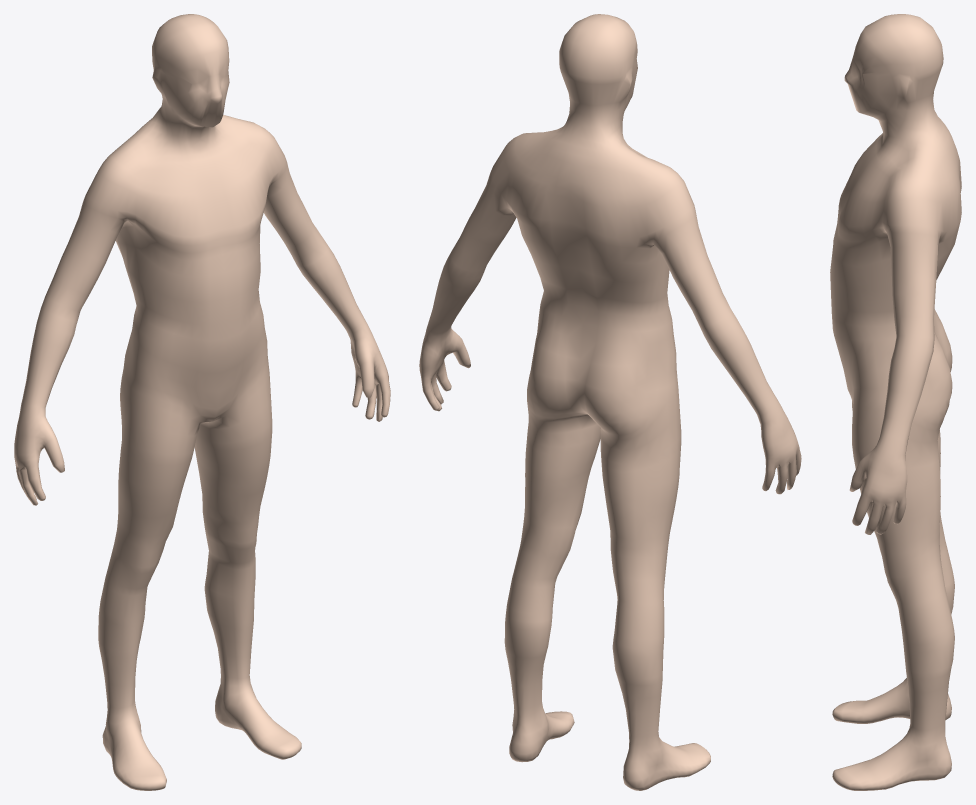
File: human.gltf
3 views of the same model, side by side, from view 1: azimuth 30°, elevation 25°; view 2: azimuth 150°, elevation 25°; view 3: azimuth 270°, elevation 25° (orthographic).
Visible parts, largest first — view 1: HumanBody:humanBody; view 2: HumanBody:humanBody; view 3: HumanBody:humanBody.
Part boxes in pixels (x1=…): HumanBody:humanBody: x1=14, y1=14, x2=390, y2=790; HumanBody:humanBody: x1=419, y1=14, x2=801, y2=790; HumanBody:humanBody: x1=830, y1=14, x2=961, y2=790.
Size of the model in its own units: 7.96 by 15.23 by 2.47.
